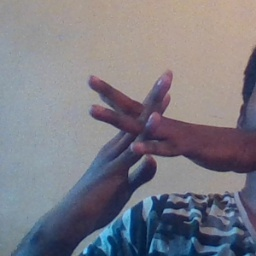W: (77, 58, 210, 201)
